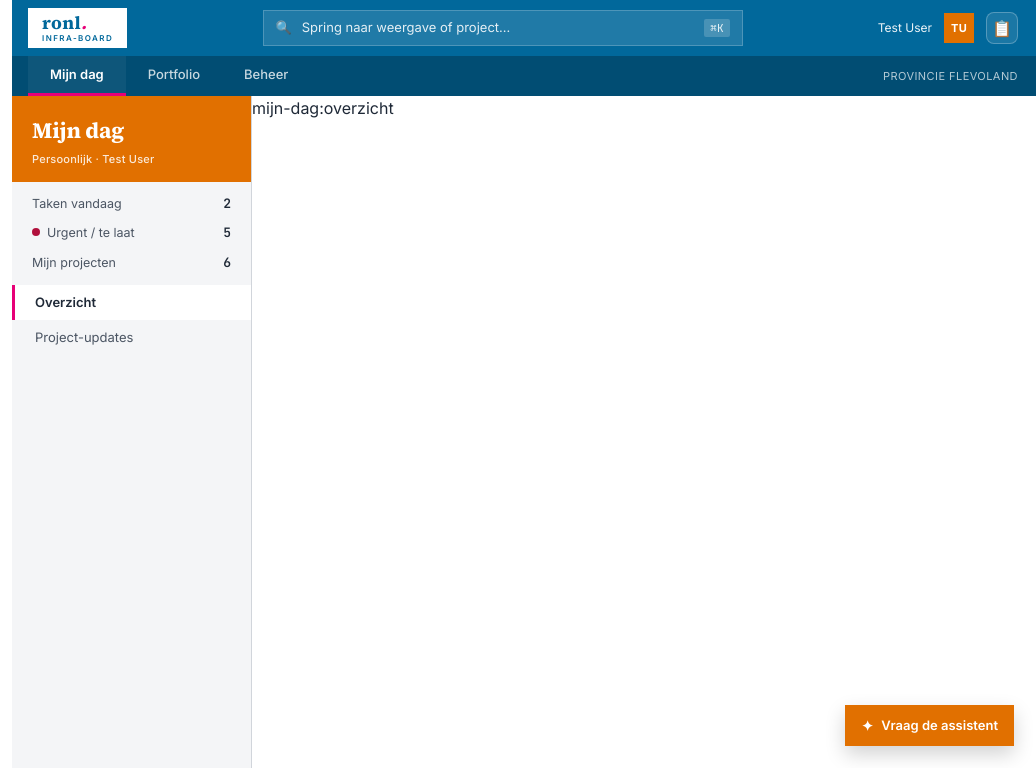
Scenario: InfraBoardDashboard › Beheer rail navigates to a phase and to Archief, marking the chosen item active
Click the button "Beheer" at (266, 76), box [222,56,310,96]
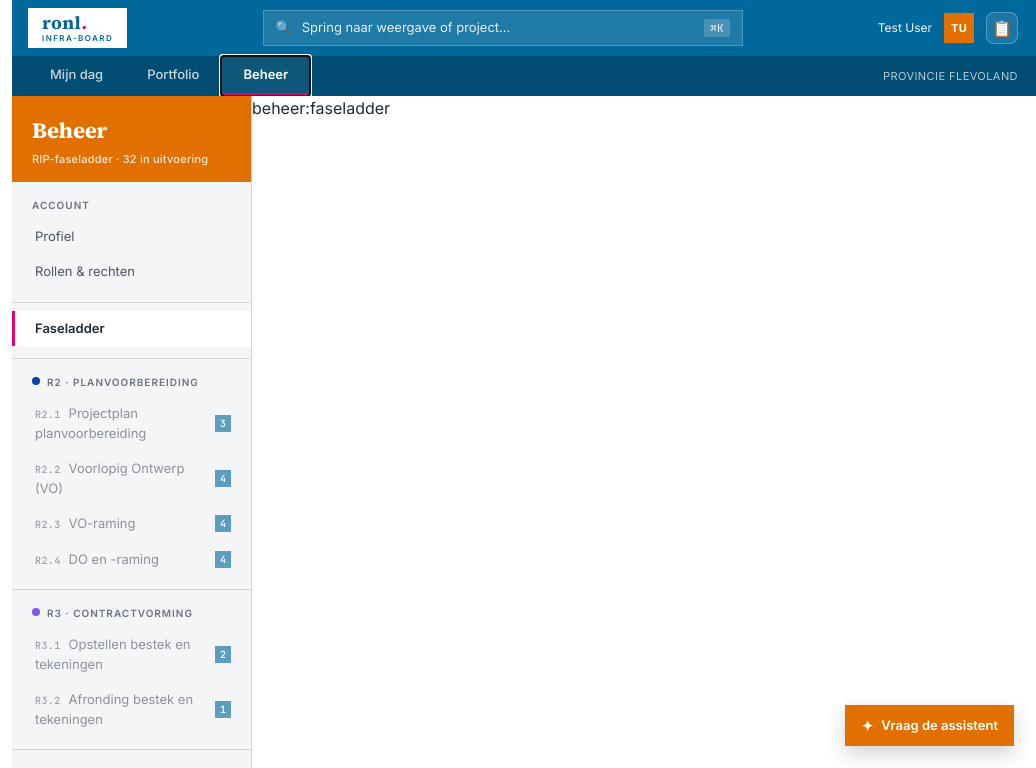
Click the button "R2.1Projectplan planvoorbereiding 3" at (132, 424), box [12,396,251,451]
(page scrolled)
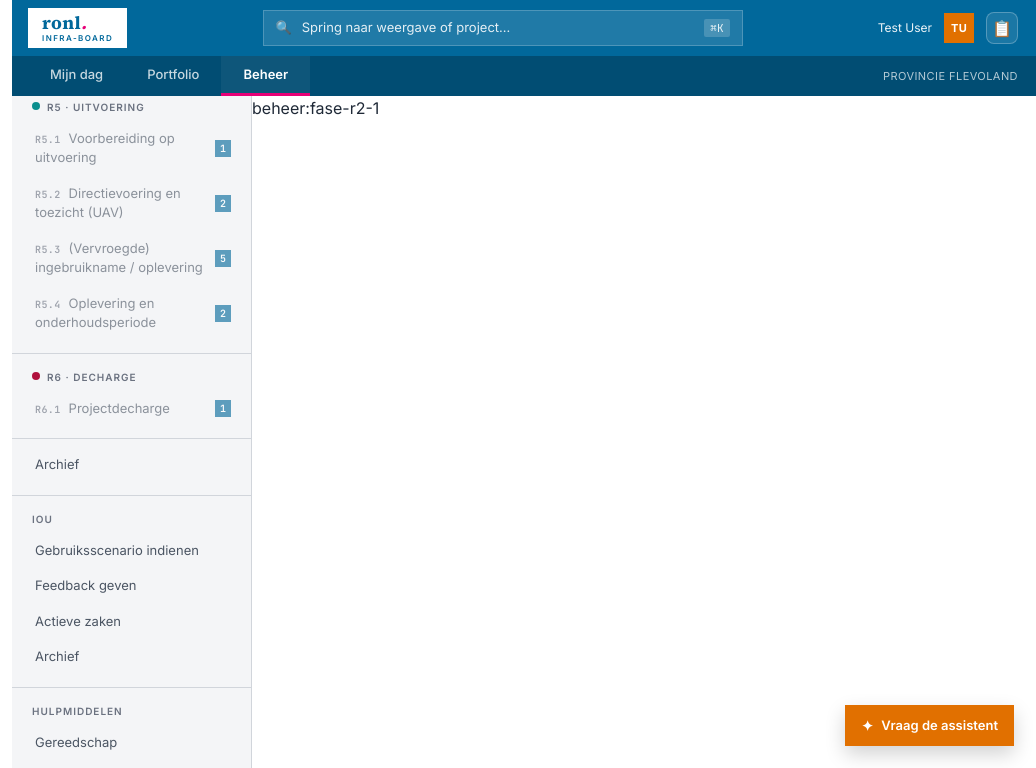
Check: the text with test id "section-router" shows "beheer:fase-", box [252,98,379,118]
Note: The Projecten section's own Archief item precedes the IOU group's.
Click the 1st button "Archief" at (132, 465), box [12,447,251,482]
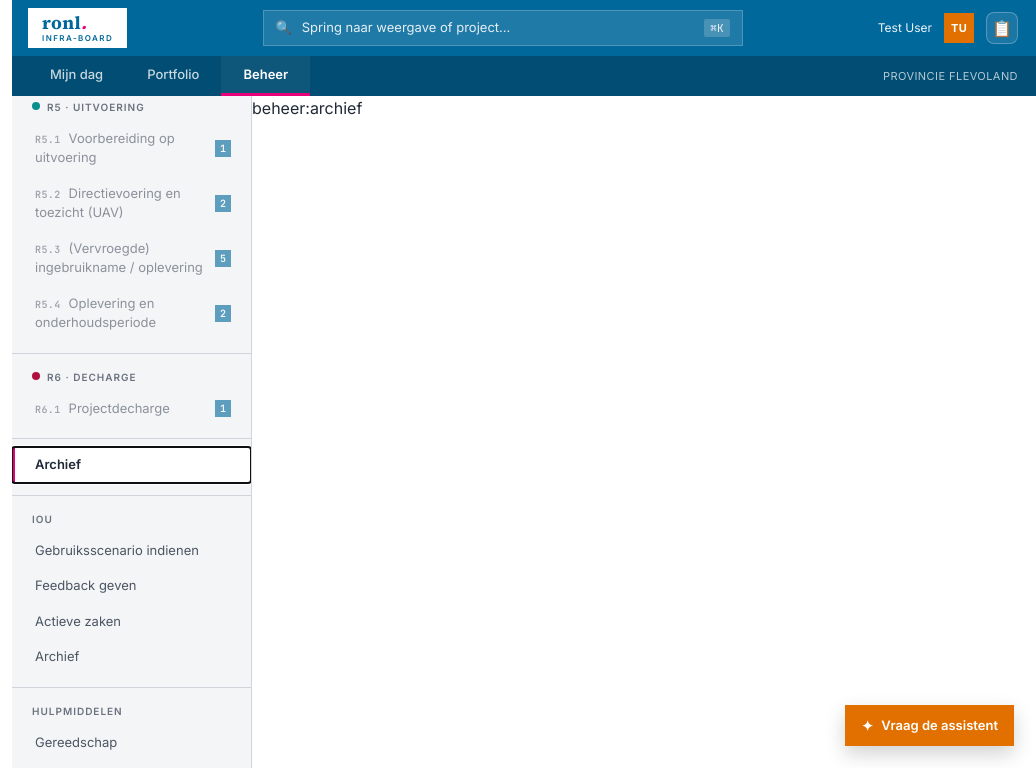
Check: the text with test id "section-router" reads "beheer:archief", box [252,98,362,118]
